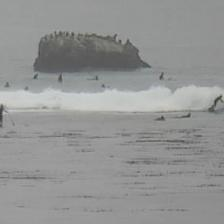surfer: (209, 93, 223, 110), (1, 105, 8, 124), (180, 113, 190, 119), (155, 116, 166, 121), (158, 72, 164, 80), (57, 72, 63, 80), (32, 74, 39, 80), (23, 86, 29, 92), (4, 82, 10, 88), (101, 83, 106, 88), (95, 75, 99, 81)
